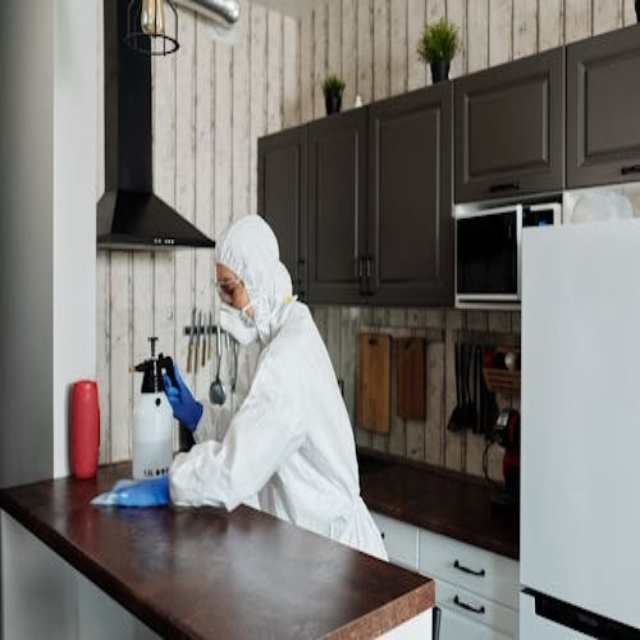Gafas: (215, 277, 242, 304)
Guantes: (162, 367, 204, 434), (93, 474, 171, 509)
Mascara: (218, 298, 258, 347)
